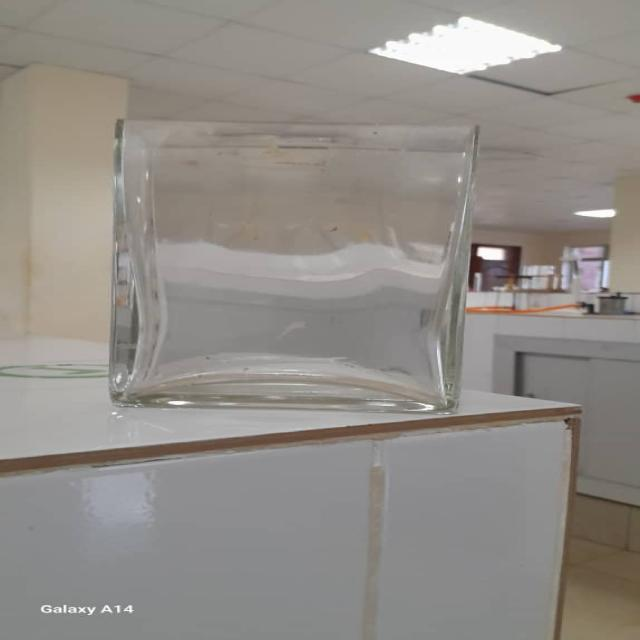TLC Tank: (110, 115, 480, 415)
